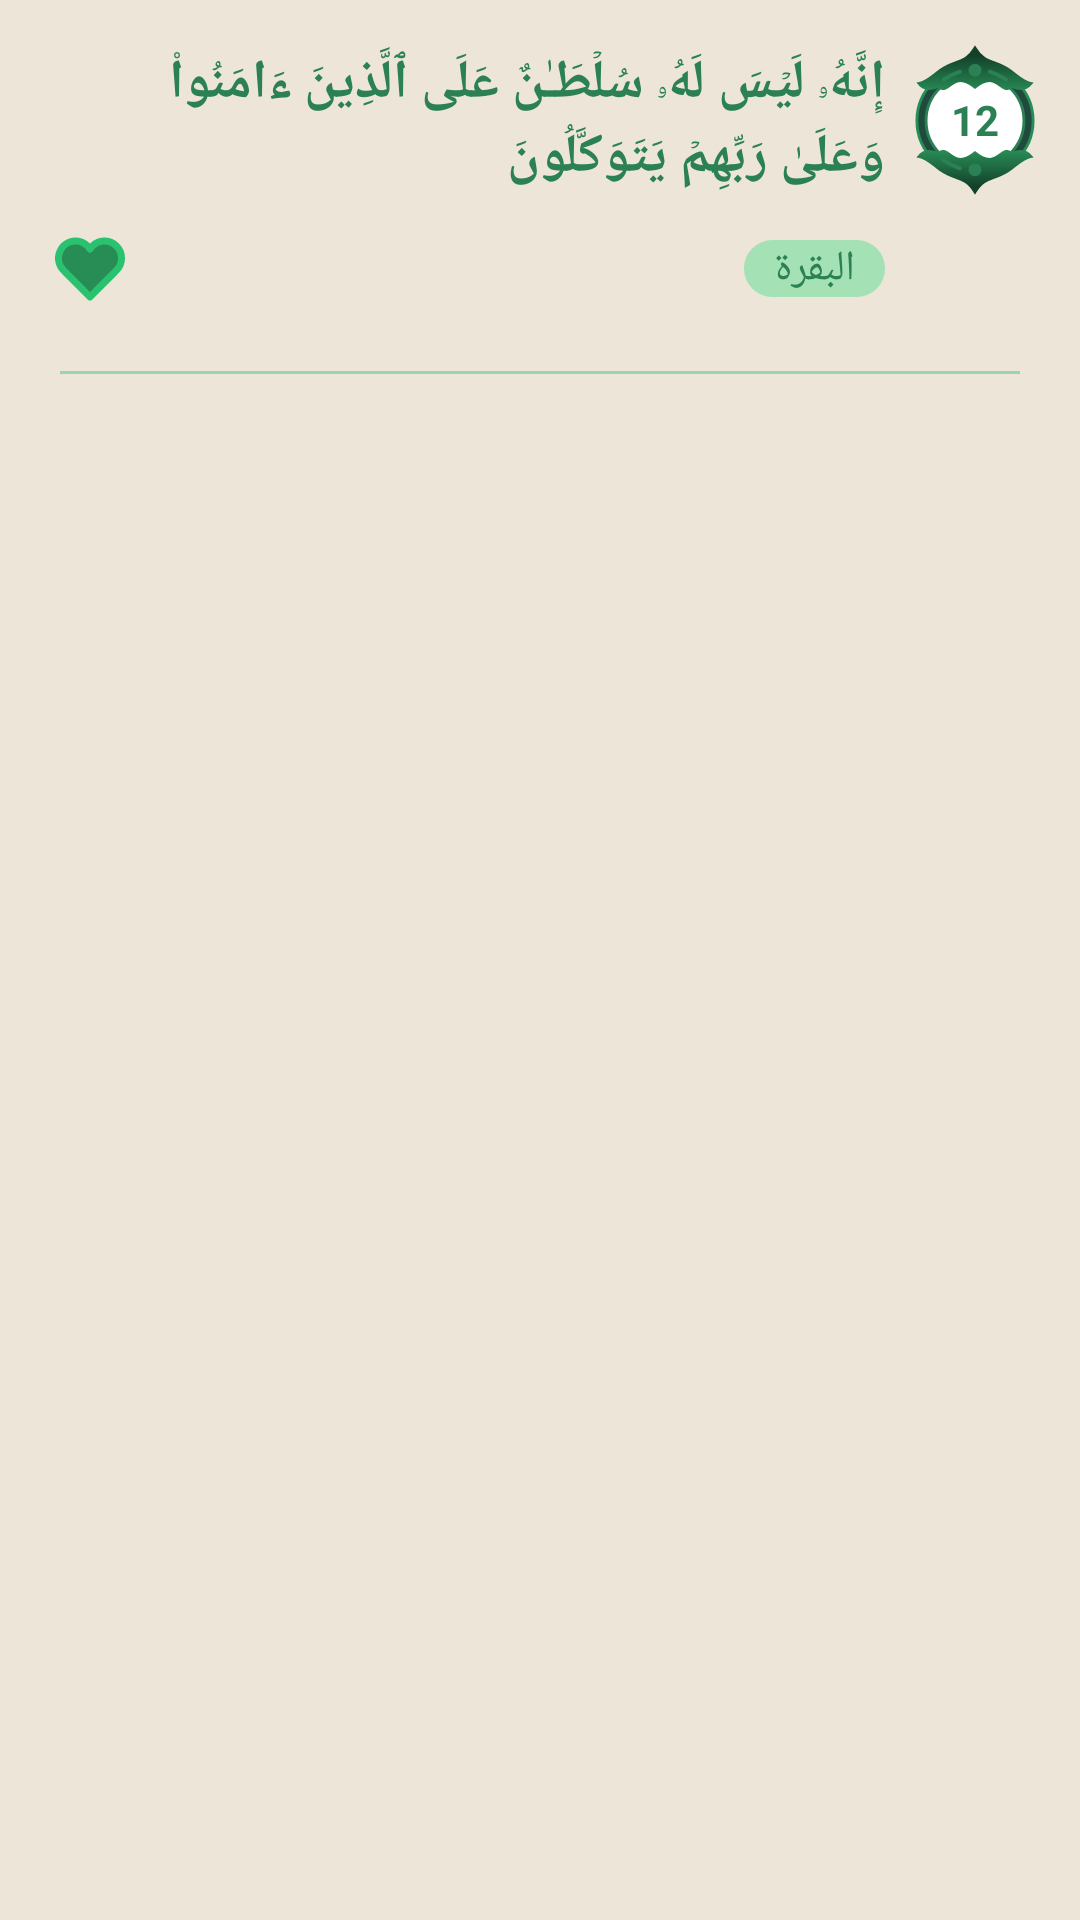

Named icons in this screenshot (1080 x 1920) and their bounding boxes, {"x1": x1, "y1": y1, "x2": x2, "y2": y2}:
fav: {"x1": 55, "y1": 237, "x2": 125, "y2": 301}
